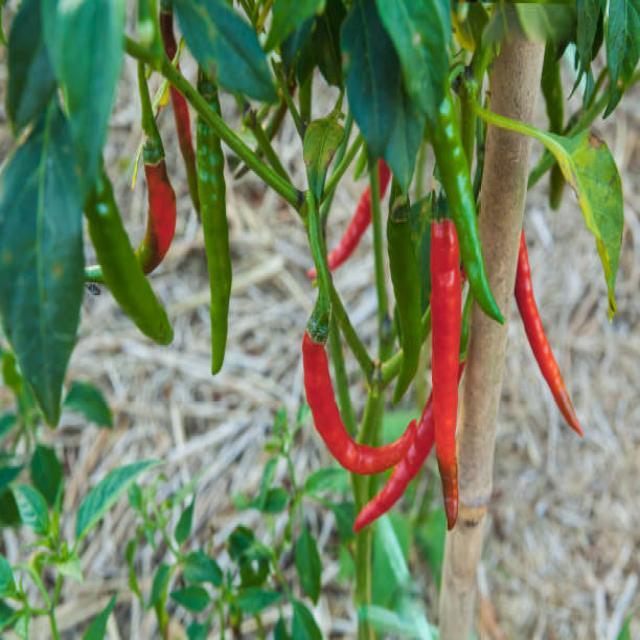Half-Ripe: (135, 158, 176, 274), (171, 86, 200, 215)
Ripe: (302, 332, 416, 474), (515, 231, 582, 436), (354, 394, 435, 532), (431, 218, 461, 530)
Unripe: (428, 90, 504, 323), (85, 171, 174, 345), (196, 74, 232, 374), (386, 195, 421, 402)
